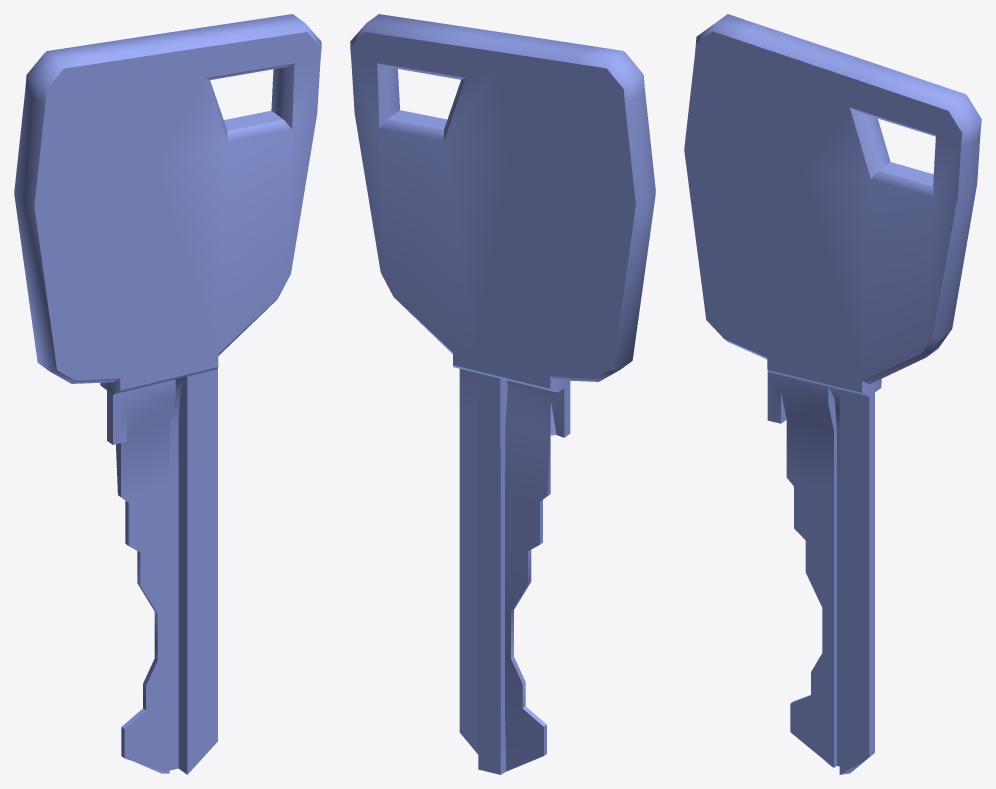
The model's file is Keys_43.FBX.
3 renders of one model, left to right at view 1: azimuth 30°, elevation 25°; view 2: azimuth 150°, elevation 25°; view 3: azimuth 330°, elevation 25°, orthographic. The views are drawn at different scales.
Visible parts, largest first — view 1: Keys_43; view 2: Keys_43; view 3: Keys_43.
Part boxes in pixels (<box>): Keys_43: <box>14,14,321,774</box>; Keys_43: <box>350,14,655,774</box>; Keys_43: <box>684,14,981,774</box>.
Bounding box in the file's own units: 0.9122 × 2.21 × 0.1075.
